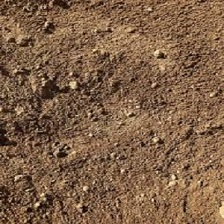sandy_soil: (9, 15, 211, 215)
